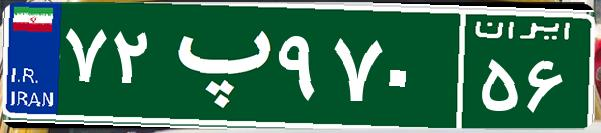0: (385, 28, 445, 110)
2: (110, 28, 158, 105)
5: (475, 38, 525, 113)
6: (525, 38, 570, 115)
7: (330, 28, 385, 110), (57, 26, 110, 107)
9: (273, 28, 330, 110)
پ: (158, 15, 273, 115)
